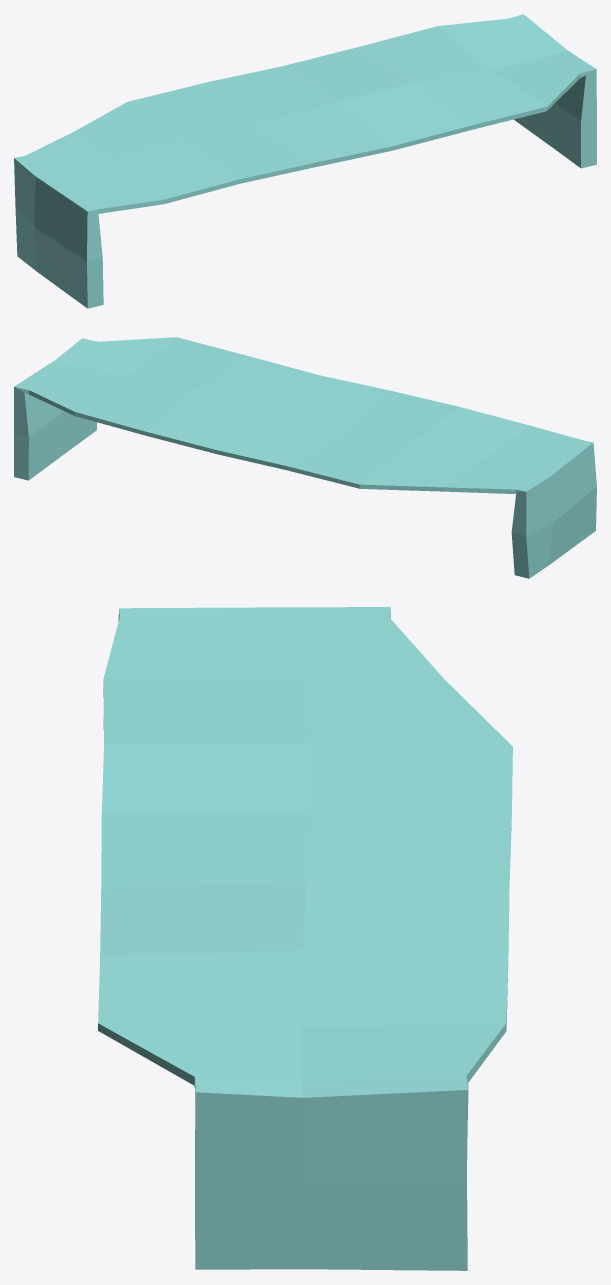
The model's file is VODA_NOVA.fbx.
3 renders of one model, top to bottom at view 1: azimuth 30°, elevation 25°; view 2: azimuth 150°, elevation 25°; view 3: azimuth 270°, elevation 25°, orthographic. The views are drawn at different scales.
Visible parts, largest first — view 1: Plane; view 2: Plane; view 3: Plane.
Boxes of the visible parts, left/top/right/bottom form: Plane: left=14, top=14, right=596, bottom=308; Plane: left=14, top=337, right=596, bottom=578; Plane: left=98, top=607, right=512, bottom=1270.
Size of the model in its own units: 6803 by 1194 by 2458.
